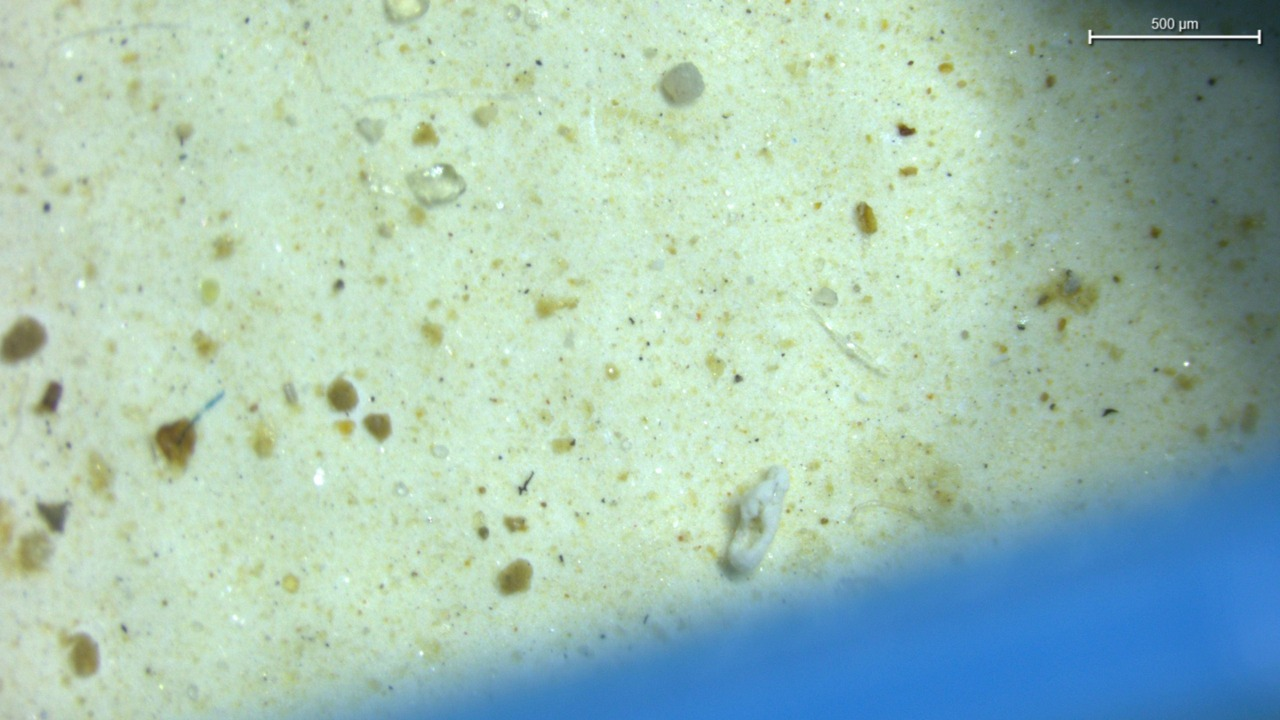microplastic_fragment: (723, 466, 789, 580), (405, 164, 466, 208), (660, 62, 704, 105)
